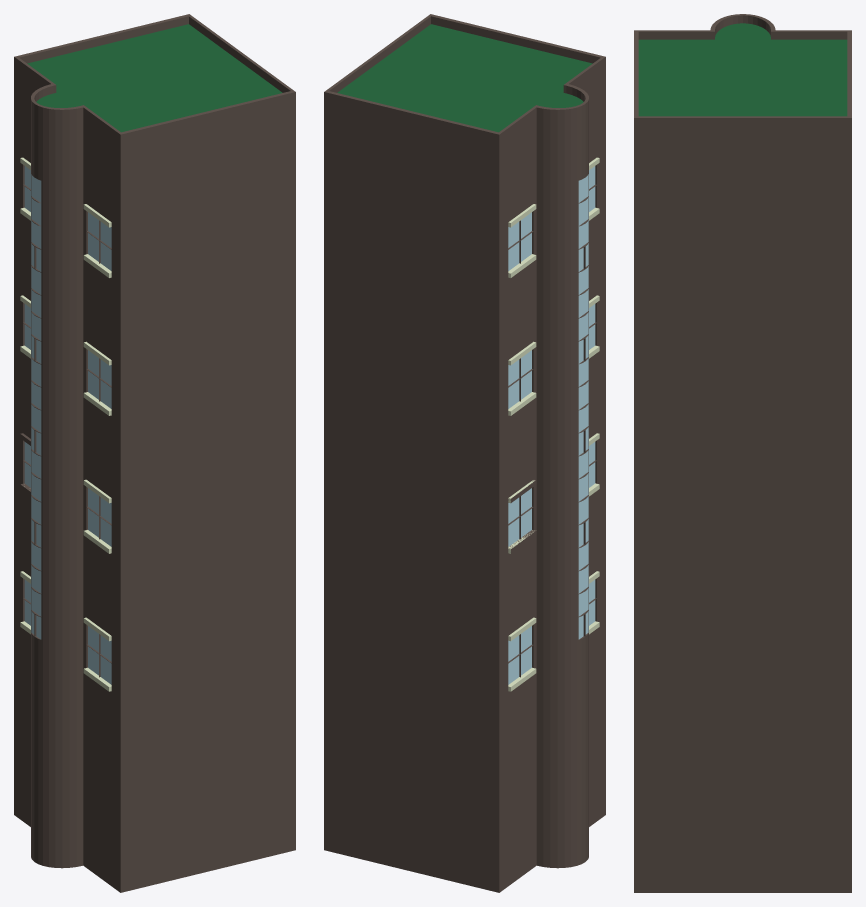
File: 6building_inside.glb
3 renders of one model, left to right at view 1: azimuth 30°, elevation 25°; view 2: azimuth 150°, elevation 25°; view 3: azimuth 270°, elevation 25°, orthographic. The views are drawn at different scales.
Visible parts, largest first — view 1: main-building.001, inside-building, inner_window, Cube.016; view 2: main-building.001, inside-building, inner_window, Cube.016; view 3: main-building.001.
Part boxes in pixels (x1,y1,x2,y2): main-building.001: [14, 14, 295, 892]; inside-building: [20, 157, 111, 691]; inner_window: [24, 166, 111, 669]; Cube.016: [21, 157, 111, 691]; main-building.001: [324, 14, 605, 892]; inside-building: [508, 158, 599, 691]; inner_window: [508, 168, 594, 684]; Cube.016: [508, 157, 599, 691]; main-building.001: [634, 14, 851, 892].
Size of the model in its own units: 47.4 by 165 by 42.
